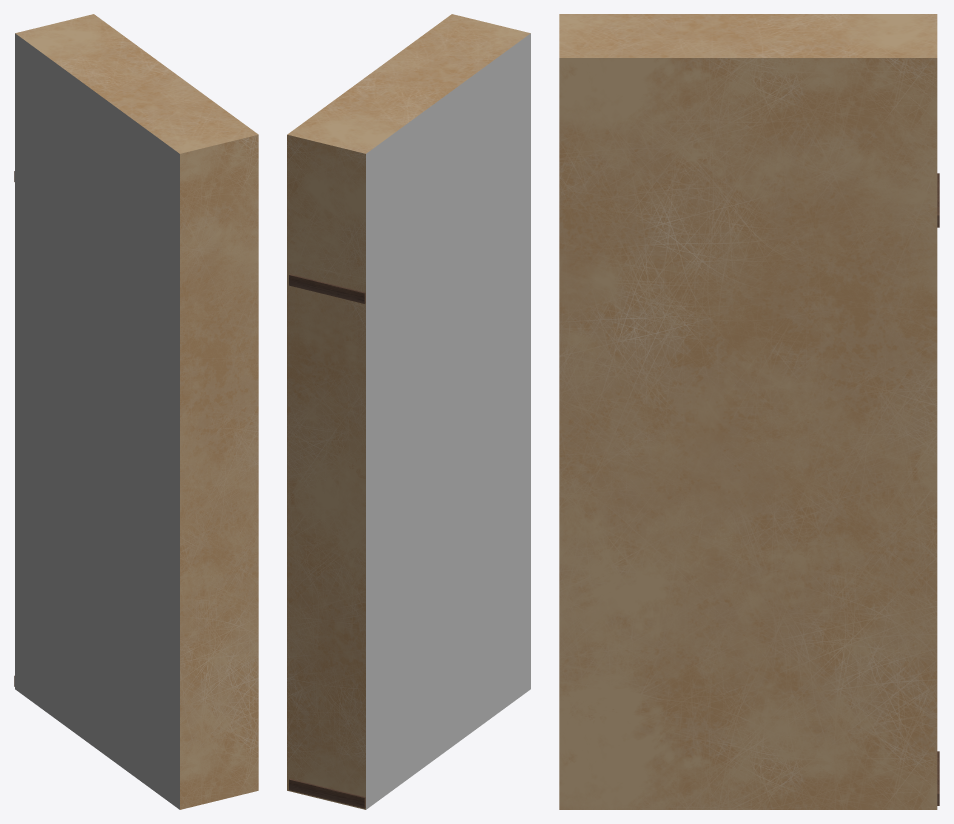
File: inwall_osiire_4.5t_spacer.fbx
3 renders of one model, left to right at view 1: azimuth 30°, elevation 25°; view 2: azimuth 150°, elevation 25°; view 3: azimuth 270°, elevation 25°, orthographic. The views are drawn at different scales.
Parts seen in each view (by area): view 1: inwall_osiire_4.5t_spacer; view 2: inwall_osiire_4.5t_spacer; view 3: inwall_osiire_4.5t_spacer.
Boxes of the visible parts, bbox=[...] form: inwall_osiire_4.5t_spacer: bbox=[14, 14, 258, 809]; inwall_osiire_4.5t_spacer: bbox=[287, 14, 530, 809]; inwall_osiire_4.5t_spacer: bbox=[559, 14, 939, 809].
Size of the model in its own units: 36.69 by 292 by 134.
